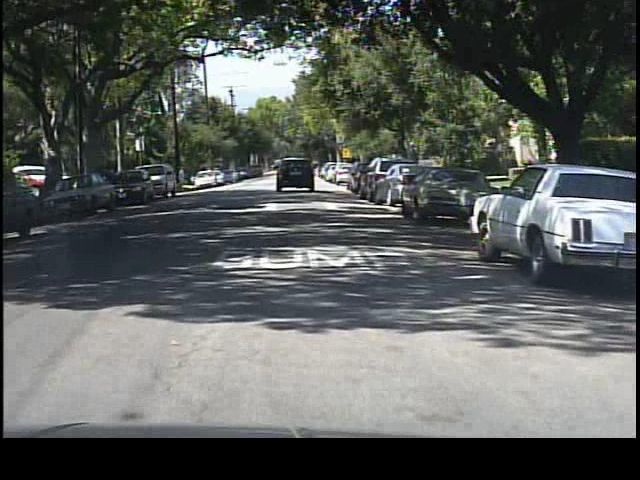person: (179, 163, 189, 191)
